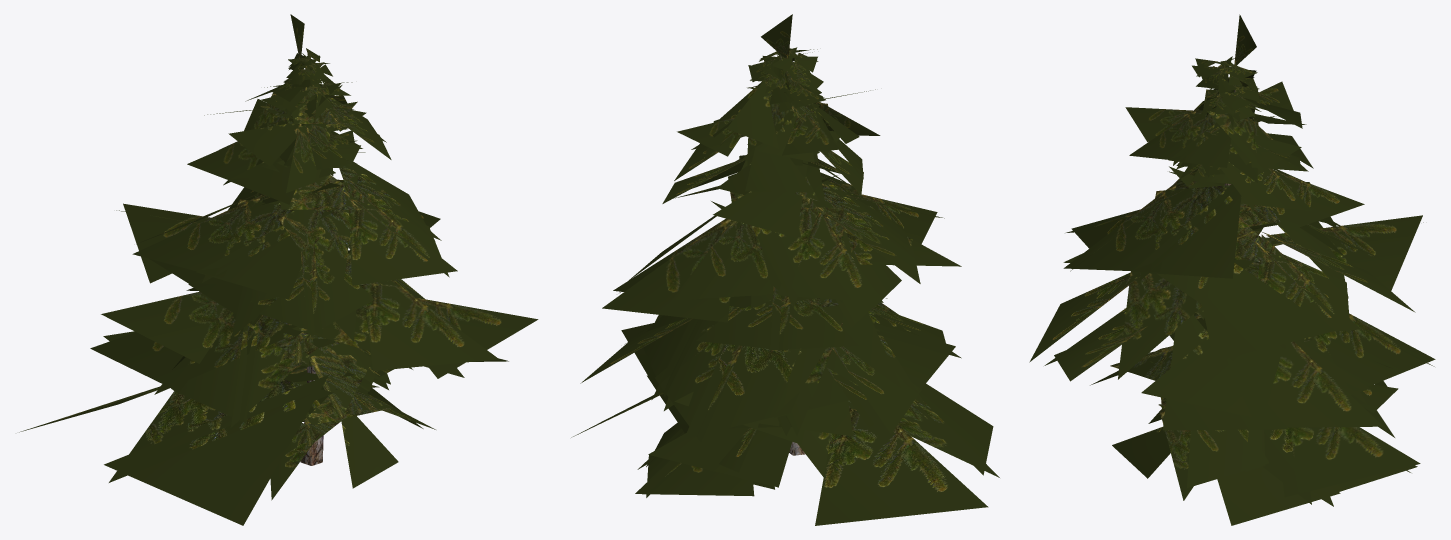
The model's file is Arbre_Pin.obj.
3 renders of one model, left to right at view 1: azimuth 30°, elevation 25°; view 2: azimuth 150°, elevation 25°; view 3: azimuth 270°, elevation 25°, orthographic. The views are drawn at different scales.
Parts seen in each view (by area): view 1: tree pine joined; view 2: tree pine joined; view 3: tree pine joined.
Part boxes in pixels (<box>): tree pine joined: <box>19,14,538,525</box>; tree pine joined: <box>571,14,999,525</box>; tree pine joined: <box>1029,14,1435,525</box>.
Size of the model in its own units: 7.25 by 7.2 by 5.93.
2 materials, 2 textured.
